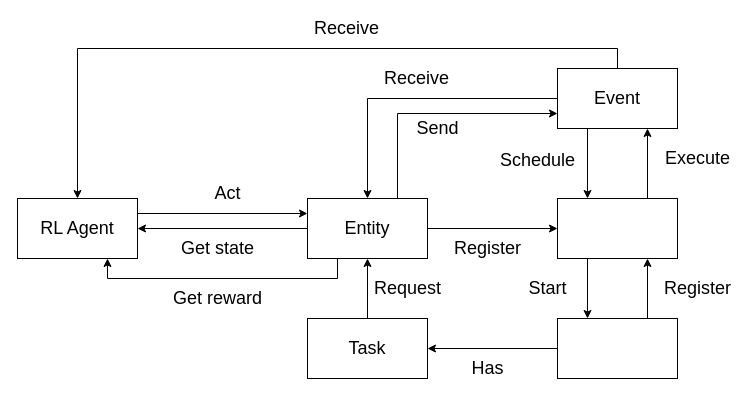
The diagram is 748 pixels wide and 396 high, and some of its shapes have lost their labels. The box of each missing label's shape, as (x1, y1, x2, y2) in pixels:
Process: (556, 318, 678, 378)
Scheduler: (556, 198, 678, 258)
